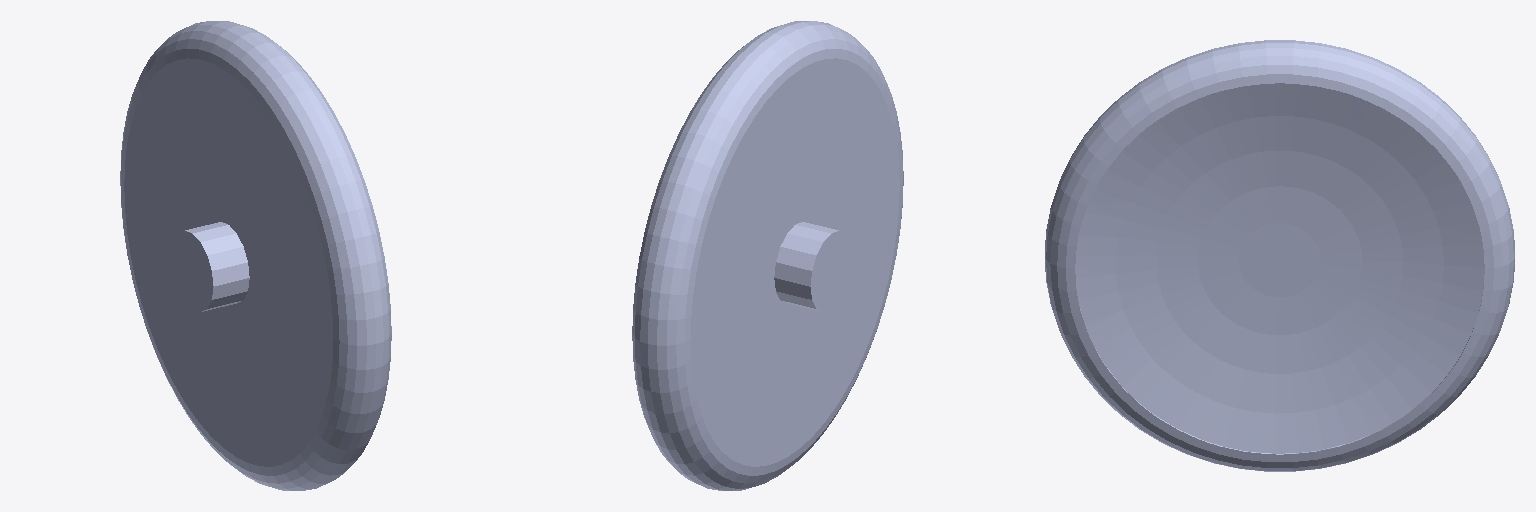
URDF robot description (two_wheel_bot_urdf5):
<?xml version="1.0" encoding="utf-8"?>
<!-- This URDF was automatically created by SolidWorks to URDF Exporter! Originally created by [author] ([email redacted]) 
     Commit Version: 1.6.0-4-g7f85cfe  Build Version: 1.6.7995.38578
     For more information, please see http://wiki.ros.org/sw_urdf_exporter -->
<robot
  name="two_wheel_bot_urdf5">
  <link
    name="base_link">
    <inertial>
      <origin
        xyz="-2.5675E-06 -0.004101 0.0045714"
        rpy="0 0 0" />
      <mass
        value="4.4532" />
      <inertia
        ixx="0.024649"
        ixy="5.3993E-07"
        ixz="-5.7011E-08"
        iyy="0.020818"
        iyz="-0.001429"
        izz="0.028482" />
    </inertial>
    <visual>
      <origin
        xyz="0 0 0"
        rpy="0 0 0" />
      <geometry>
        <mesh
          filename="package://two_wheel_bot_urdf5/meshes/base_link.STL" />
      </geometry>
      <material
        name="">
        <color
          rgba="1 1 1 1" />
      </material>
    </visual>
    <collision>
      <origin
        xyz="0 0 0"
        rpy="0 0 0" />
      <geometry>
        <mesh
          filename="package://two_wheel_bot_urdf5/meshes/base_link.STL" />
      </geometry>
    </collision>
  </link>
  <link
    name="link1L">
    <inertial>
      <origin
        xyz="-0.0022174 -2.4169E-17 -0.041249"
        rpy="0 0 0" />
      <mass
        value="0.098536" />
      <inertia
        ixx="0.00038072"
        ixy="8.5835E-21"
        ixz="9.0128E-06"
        iyy="0.00035051"
        iyz="-1.797E-19"
        izz="3.5255E-05" />
    </inertial>
    <visual>
      <origin
        xyz="0 0 0"
        rpy="0 0 0" />
      <geometry>
        <mesh
          filename="package://two_wheel_bot_urdf5/meshes/link1L.STL" />
      </geometry>
      <material
        name="">
        <color
          rgba="1 1 1 0.32" />
      </material>
    </visual>
    <collision>
      <origin
        xyz="0 0 0"
        rpy="0 0 0" />
      <geometry>
        <mesh
          filename="package://two_wheel_bot_urdf5/meshes/link1L.STL" />
      </geometry>
    </collision>
  </link>
  <joint
    name="joint1L"
    type="revolute">
    <origin
      xyz="0.105 0 0"
      rpy="0 0 0" />
    <parent
      link="base_link" />
    <child
      link="link1L" />
    <axis
      xyz="-1 0 0" />
    <limit
      lower="-1.570793"
      upper="1.570793"
      effort="1.0E-21"
      velocity="1.0E-21" />
  </joint>
  <link
    name="link2L">
    <inertial>
      <origin
        xyz="0.0091303 -3.065E-17 -0.074797"
        rpy="0 0 0" />
      <mass
        value="0.077303" />
      <inertia
        ixx="0.00034986"
        ixy="5.2129E-21"
        ixz="5.0286E-06"
        iyy="0.00033924"
        iyz="2.6185E-19"
        izz="1.3139E-05" />
    </inertial>
    <visual>
      <origin
        xyz="0 0 0"
        rpy="0 0 0" />
      <geometry>
        <mesh
          filename="package://two_wheel_bot_urdf5/meshes/link2L.STL" />
      </geometry>
      <material
        name="">
        <color
          rgba="1 1 1 0.32" />
      </material>
    </visual>
    <collision>
      <origin
        xyz="0 0 0"
        rpy="0 0 0" />
      <geometry>
        <mesh
          filename="package://two_wheel_bot_urdf5/meshes/link2L.STL" />
      </geometry>
    </collision>
  </link>
  <joint
    name="joint2L"
    type="revolute">
    <origin
      xyz="0 0 -0.15"
      rpy="0 0 0" />
    <parent
      link="link1L" />
    <child
      link="link2L" />
    <axis
      xyz="1 0 0" />
    <limit
      lower="-1.5708"
      upper="1.5708"
      effort="1.0E-21"
      velocity="1.0E-21" />
  </joint>
  <link
    name="wheelL">
    <inertial>
      <origin
        xyz="0.011104 -1.3263E-17 -5.5511E-17"
        rpy="0 0 0" />
      <mass
        value="0.12622" />
      <inertia
        ixx="0.00020879"
        ixy="1.9828E-20"
        ixz="1.6113E-20"
        iyy="0.00010647"
        iyz="1.6009E-36"
        izz="0.00010647" />
    </inertial>
    <visual>
      <origin
        xyz="0 0 0"
        rpy="0 0 0" />
      <geometry>
        <mesh
          filename="package://two_wheel_bot_urdf5/meshes/wheelL.STL" />
      </geometry>
      <material
        name="">
        <color
          rgba="0.79216 0.81961 0.93333 1" />
      </material>
    </visual>
    <collision>
      <origin
        xyz="0 0 0"
        rpy="0 0 0" />
      <geometry>
        <mesh
          filename="package://two_wheel_bot_urdf5/meshes/wheelL.STL" />
      </geometry>
    </collision>
  </link>
  <joint
    name="wheel_jointL"
    type="continuous">
    <origin
      xyz="0.01 0 -0.15"
      rpy="0 0 0" />
    <parent
      link="link2L" />
    <child
      link="wheelL" />
    <axis
      xyz="1 0 0" />
  </joint>
  <link
    name="link1R">
    <inertial>
      <origin
        xyz="0.0022174 2.164E-18 -0.041249"
        rpy="0 0 0" />
      <mass
        value="0.098536" />
      <inertia
        ixx="0.00038072"
        ixy="-3.2093E-21"
        ixz="-9.0128E-06"
        iyy="0.00035051"
        iyz="1.1883E-19"
        izz="3.5255E-05" />
    </inertial>
    <visual>
      <origin
        xyz="0 0 0"
        rpy="0 0 0" />
      <geometry>
        <mesh
          filename="package://two_wheel_bot_urdf5/meshes/link1R.STL" />
      </geometry>
      <material
        name="">
        <color
          rgba="1 1 1 0.32" />
      </material>
    </visual>
    <collision>
      <origin
        xyz="0 0 0"
        rpy="0 0 0" />
      <geometry>
        <mesh
          filename="package://two_wheel_bot_urdf5/meshes/link1R.STL" />
      </geometry>
    </collision>
  </link>
  <joint
    name="joint1R"
    type="revolute">
    <origin
      xyz="-0.105 0 0"
      rpy="0 0 0" />
    <parent
      link="base_link" />
    <child
      link="link1R" />
    <axis
      xyz="1 0 0" />
    <limit
      lower="-1.570793"
      upper="1.570793"
      effort="1.0E-21"
      velocity="1.0E-21" />
  </joint>
  <link
    name="link2R">
    <inertial>
      <origin
        xyz="-0.0091303 -7.4492E-18 -0.074797"
        rpy="0 0 0" />
      <mass
        value="0.077303" />
      <inertia
        ixx="0.00034986"
        ixy="1.4834E-21"
        ixz="-5.0286E-06"
        iyy="0.00033924"
        iyz="-2.1347E-19"
        izz="1.3139E-05" />
    </inertial>
    <visual>
      <origin
        xyz="0 0 0"
        rpy="0 0 0" />
      <geometry>
        <mesh
          filename="package://two_wheel_bot_urdf5/meshes/link2R.STL" />
      </geometry>
      <material
        name="">
        <color
          rgba="1 1 1 0.32" />
      </material>
    </visual>
    <collision>
      <origin
        xyz="0 0 0"
        rpy="0 0 0" />
      <geometry>
        <mesh
          filename="package://two_wheel_bot_urdf5/meshes/link2R.STL" />
      </geometry>
    </collision>
  </link>
  <joint
    name="joint2R"
    type="revolute">
    <origin
      xyz="0 0 -0.15"
      rpy="0 0 0" />
    <parent
      link="link1R" />
    <child
      link="link2R" />
    <axis
      xyz="-1 0 0" />
    <limit
      lower="-1.5708"
      upper="1.5708"
      effort="1.0E-21"
      velocity="1.0E-21" />
  </joint>
  <link
    name="wheelR">
    <inertial>
      <origin
        xyz="-0.011104 5.5006E-17 -5.5511E-17"
        rpy="0 0 0" />
      <mass
        value="0.12622" />
      <inertia
        ixx="0.00020879"
        ixy="1.3049E-20"
        ixz="-1.8758E-20"
        iyy="0.00010647"
        iyz="-2.1305E-36"
        izz="0.00010647" />
    </inertial>
    <visual>
      <origin
        xyz="0 0 0"
        rpy="0 0 0" />
      <geometry>
        <mesh
          filename="package://two_wheel_bot_urdf5/meshes/wheelR.STL" />
      </geometry>
      <material
        name="">
        <color
          rgba="0.79216 0.81961 0.93333 1" />
      </material>
    </visual>
    <collision>
      <origin
        xyz="0 0 0"
        rpy="0 0 0" />
      <geometry>
        <mesh
          filename="package://two_wheel_bot_urdf5/meshes/wheelR.STL" />
      </geometry>
    </collision>
  </link>
  <joint
    name="wheel_jointR"
    type="continuous">
    <origin
      xyz="-0.01 0 -0.15"
      rpy="0 0 0" />
    <parent
      link="link2R" />
    <child
      link="wheelR" />
    <axis
      xyz="-1 0 0" />
  </joint>
</robot>

--- Render facts (derived) ---
The picture shows the robot from 3 angles, left to right: view 1: azimuth 30°, elevation 25°; view 2: azimuth 150°, elevation 25°; view 3: azimuth 270°, elevation 25°; orthographic projection.
Model two_wheel_bot_urdf5 with 7 links and 6 joints (4 revolute, 2 continuous), rooted at base_link, posed all joints at 0.
Visible links, largest first — view 1: wheelL; view 2: wheelL; view 3: wheelL.
Link boxes in pixels (x1,y1,x2,y2): wheelL: (120,21,391,490); wheelL: (632,21,903,490); wheelL: (1045,40,1514,471).
Bounding box of the posed robot: 0.025 × 0.115 × 0.1148 m (x, y, z).
Meshes: 7 distinct files referenced, 1 mesh visuals loaded (1 binary STL); not drawn: 6 (reference not matched to a file when rendering).